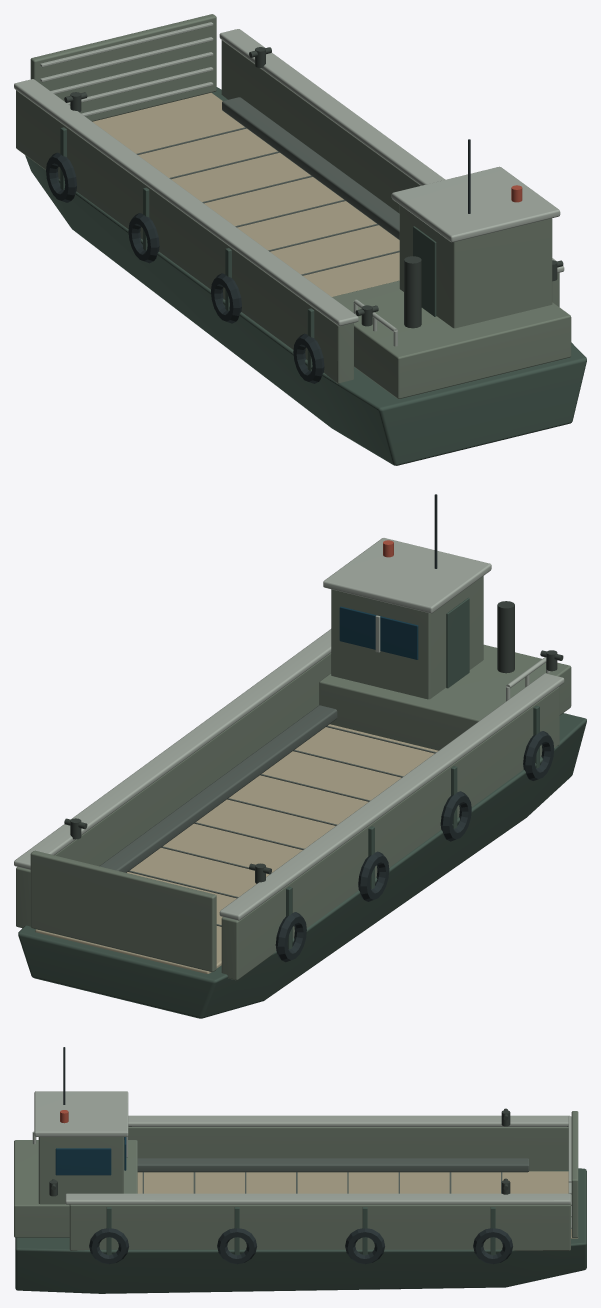
The model's file is cas_landing_craft.glb.
3 renders of one model, top to bottom at view 1: azimuth 30°, elevation 25°; view 2: azimuth 150°, elevation 25°; view 3: azimuth 270°, elevation 25°, orthographic. The views are drawn at different scales.
Parts seen in each view (by area): view 1: Hull, RampVisual; view 2: Hull, RampVisual; view 3: Hull, RampVisual.
Boxes of the visible parts, left/top/right/bottom form: Hull: left=14, top=29, right=586, bottom=465; RampVisual: left=30, top=14, right=216, bottom=121; Hull: left=14, top=494, right=586, bottom=1018; RampVisual: left=30, top=850, right=216, bottom=972; Hull: left=14, top=1047, right=586, bottom=1293; RampVisual: left=568, top=1111, right=578, bottom=1237.
Size of the model in its own units: 5.01 by 5.6 by 13.43.
